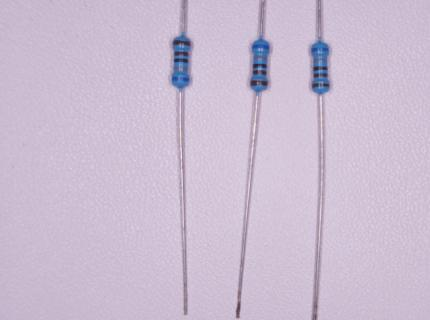Black band: (174, 58, 189, 63), (313, 66, 328, 71), (253, 64, 267, 68)
Blue band: (252, 45, 270, 50), (172, 77, 190, 82), (311, 48, 329, 52)
Brown band: (250, 81, 268, 87), (173, 40, 191, 46), (312, 83, 330, 88), (252, 70, 267, 75), (174, 52, 189, 57), (314, 73, 328, 78)
Grey band: (313, 58, 327, 63), (174, 67, 188, 71), (253, 56, 267, 60)
